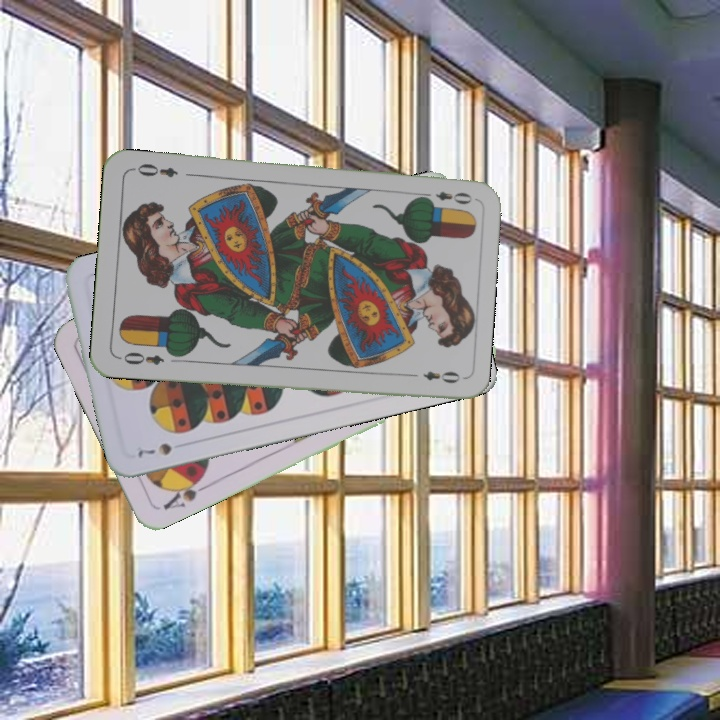EO: (417, 187, 475, 207), (114, 348, 167, 368)
S7: (133, 439, 175, 460)
SA: (159, 471, 212, 513)
